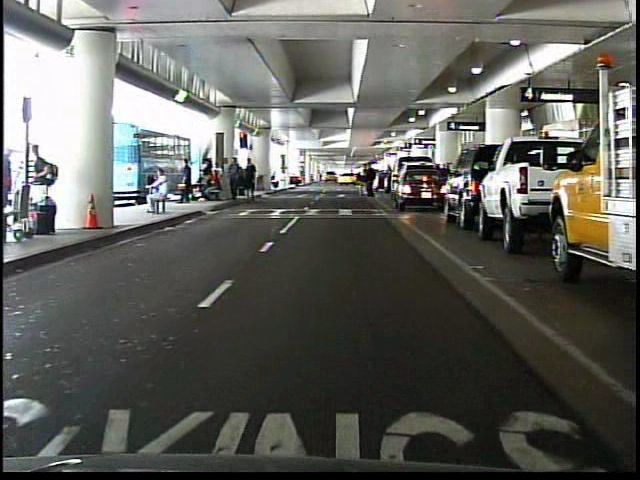person: (140, 167, 172, 217), (177, 156, 195, 207), (362, 158, 382, 203), (353, 160, 369, 197)
